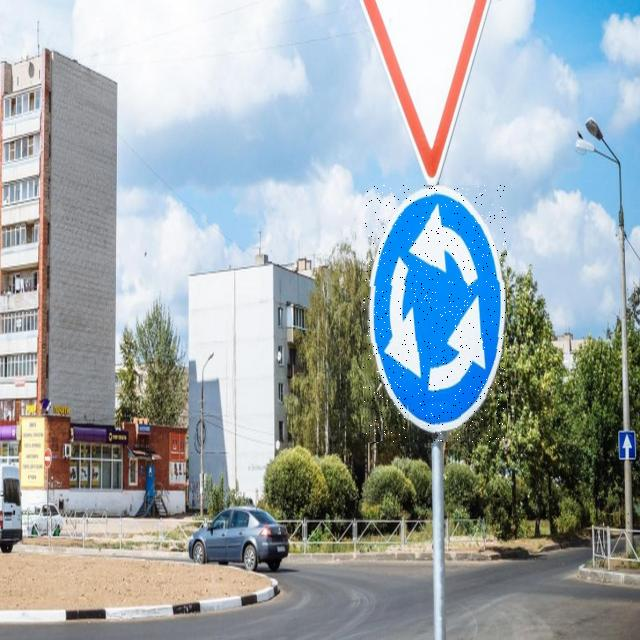roundabout: (363, 185, 507, 442)
